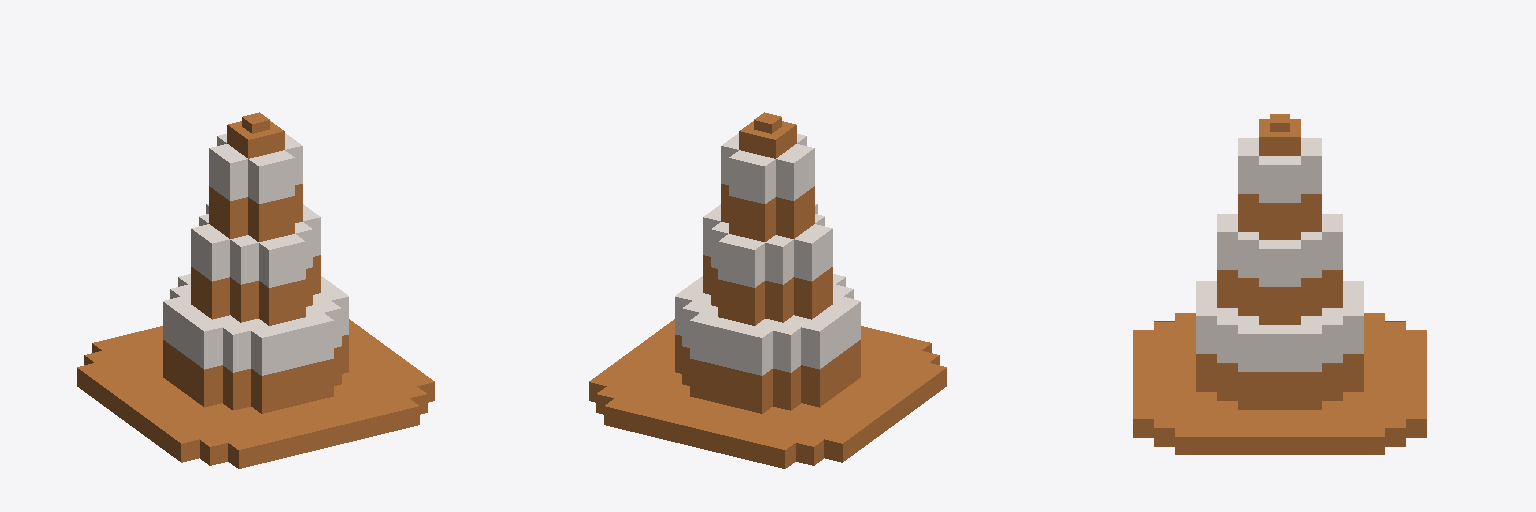
The picture shows the model from 3 angles: view 1: azimuth 30°, elevation 25°; view 2: azimuth 150°, elevation 25°; view 3: azimuth 270°, elevation 25°; orthographic projection.
Parts seen in each view (by area): view 1: Model; view 2: Model; view 3: Model.
Part boxes in pixels (x1,y1,x2,y2): Model: (77,112,434,468); Model: (589,112,946,468); Model: (1133,114,1426,454).
Size of the model in its own units: 30.9 by 32 by 30.9.
1 materials, 1 textured.